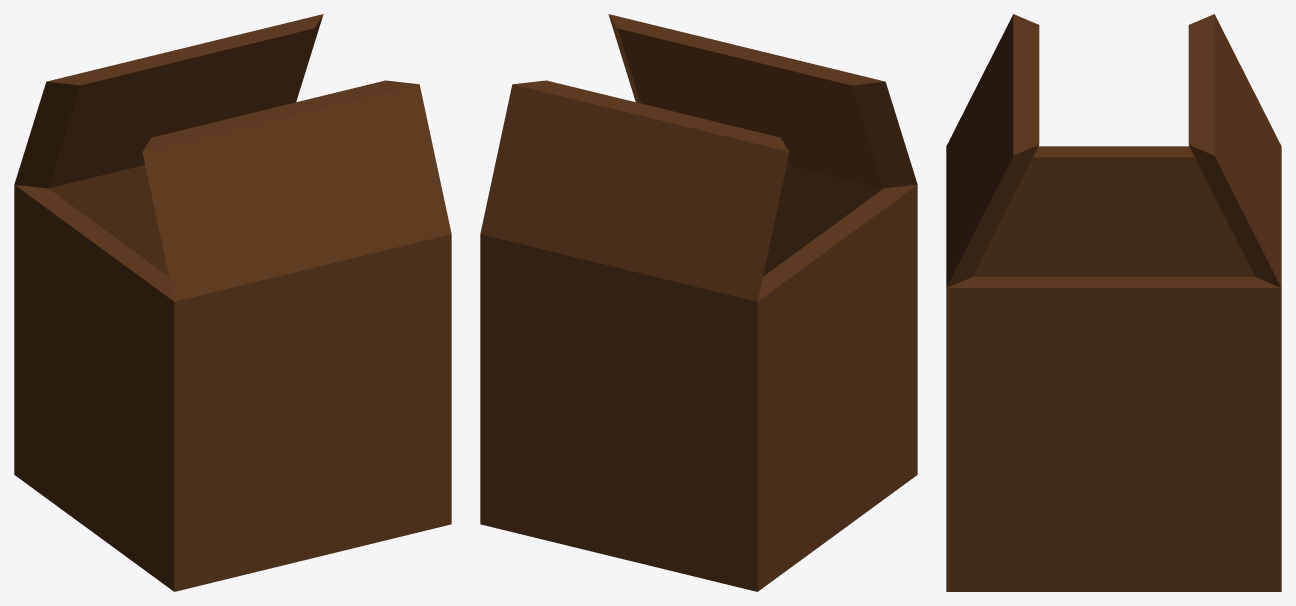
3 renders of one model, left to right at view 1: azimuth 30°, elevation 25°; view 2: azimuth 150°, elevation 25°; view 3: azimuth 270°, elevation 25°, orthographic. The views are drawn at different scales.
Visible parts, largest first — view 1: Cube.001; view 2: Cube.001; view 3: Cube.001.
Boxes of the visible parts, x1=… form: Cube.001: x1=14, y1=14, x2=451, y2=591; Cube.001: x1=480, y1=14, x2=917, y2=591; Cube.001: x1=946, y1=14, x2=1281, y2=591.
Size of the model in its own units: 200 by 287 by 200.
